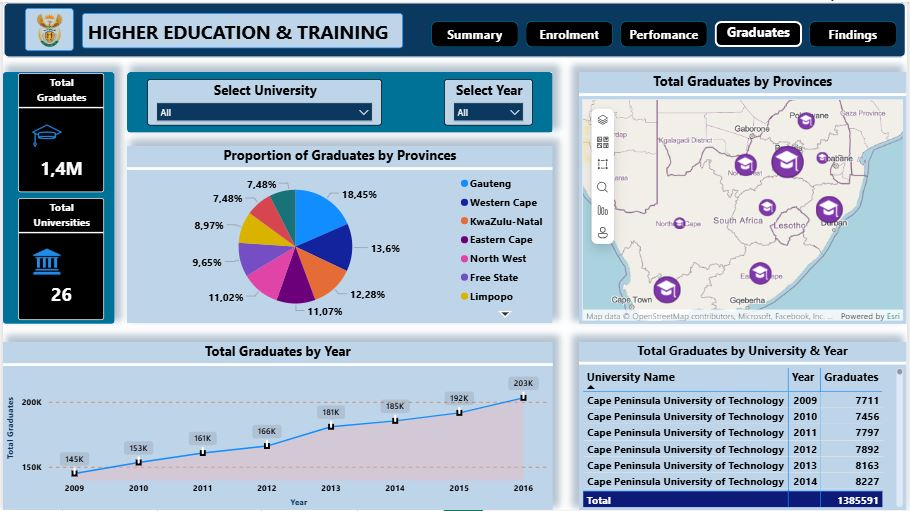

The page's visual inventory and layout, read from the dashboard file:
{"tool":"powerbi","page":{"name":"Graduates","canvas":[1280,720],"ordinal":3},"visuals":[{"type":"shape","box":[0,98.8,158.1,357],"z":0},{"type":"tableEx","title":"Total Graduates by University & Year","fields":{"Values":["Institutions.University Name ","Years.Years.Variation.Date Hierarchy.Year","Calculations.Total Graduates"]},"box":[816.2,481.2,463.8,238.8],"z":1000},{"type":"lineChart","fields":{"Category":["Years.Years.Variation.Date Hierarchy.Year"],"Y":["Calculations.Total Graduates"]},"box":[0,481.4,779.1,238.4],"z":2000},{"type":"esriVisual","fields":{"Location":["Provinces.Provinces"],"Size":["Calculations.Total Graduates"]},"box":[816.3,98.8,463.9,357],"z":3000},{"type":"cardVisual","title":"Total Graduates","fields":{"Data":["Calculations.Total Graduates"]},"box":[20.6,100.6,121.9,168.8],"z":4000},{"type":"cardVisual","title":"Total Universities","fields":{"Data":["CountNonNull(Institutions.University Name )"]},"box":[21.2,277.5,121.9,173.1],"z":5000},{"type":"pieChart","title":"Proportion of Graduates by Provinces","fields":{"Category":["Provinces.Provinces"],"Y":["Calculations.Total Graduates"]},"box":[175.6,204.7,603.5,251.2],"z":6000},{"type":"shape","box":[175.6,98.8,603.5,86],"z":7000},{"type":"slicer","title":"Select University","fields":{"Values":["Institutions.University Name "]},"box":[203.6,108.7,333.3,66],"z":8000},{"type":"slicer","title":"Select Year","fields":{"Values":["Years.Years.Variation.Date Hierarchy.Year"]},"box":[625,108.8,126.2,66.2],"z":9000},{"type":"shape","box":[0,0,1280.2,79.1],"z":10000},{"type":"textbox","box":[112.5,15,455,50],"z":11000},{"type":"image","box":[31.2,8.8,68.8,61.2],"z":12000},{"type":"pageNavigator","box":[607.3,26.8,663.4,37.8],"z":13000}]}

Visuals, with their boxes in screenshot pixels (x1, y1, x2, y2), scaled from the page's 1280x720 canvas onto the 910x511 screenshot:
shape: [0, 70, 112, 323]
"Total Graduates by University & Year" tableEx: [580, 342, 909, 510]
lineChart - Years.Years.Variation.Date Hierarchy.Year x Calculations.Total Graduates: [0, 342, 554, 510]
esriVisual - Provinces.Provinces x Calculations.Total Graduates: [580, 70, 909, 323]
"Total Graduates" cardVisual: [15, 71, 101, 191]
"Total Universities" cardVisual: [15, 197, 102, 320]
"Proportion of Graduates by Provinces" pieChart: [125, 145, 554, 324]
shape: [125, 70, 554, 131]
"Select University" slicer: [145, 77, 382, 124]
"Select Year" slicer: [444, 77, 534, 124]
shape: [0, 0, 909, 56]
textbox: [80, 11, 403, 46]
image: [22, 6, 71, 50]
pageNavigator: [432, 19, 903, 46]
